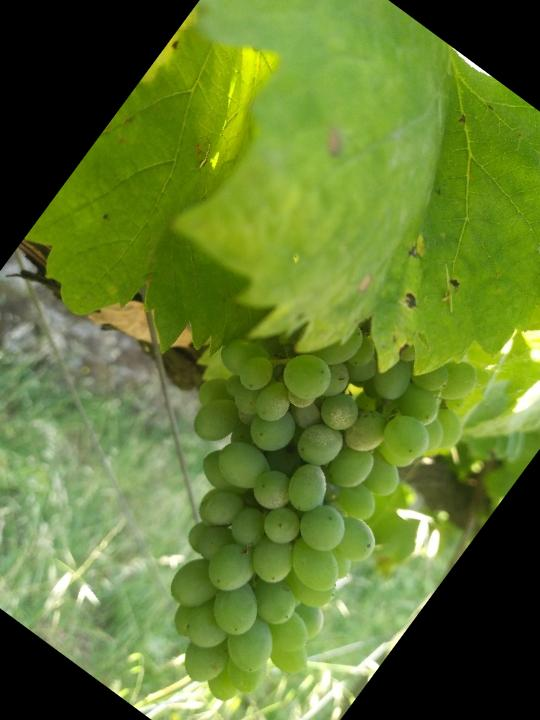grape: (43, 233, 515, 720)
